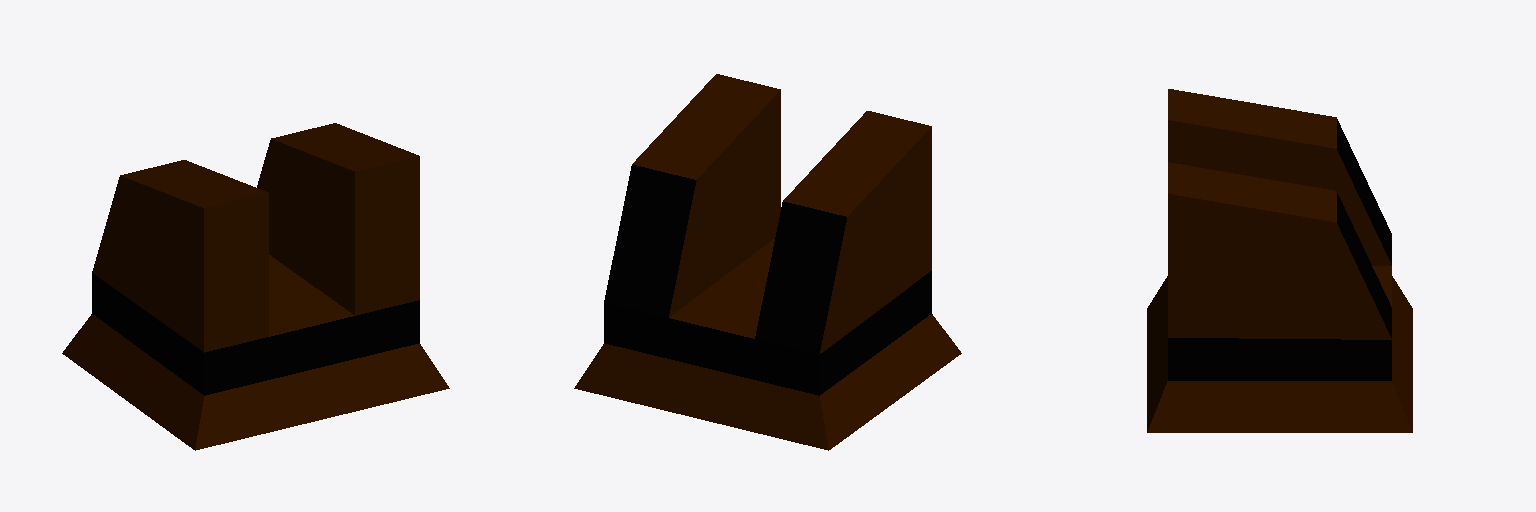
The model's file is turret_body.obj.
The picture shows the model from 3 angles: view 1: azimuth 30°, elevation 25°; view 2: azimuth 150°, elevation 25°; view 3: azimuth 270°, elevation 25°; orthographic projection.
Visible parts, largest first — view 1: Cube_Cube.001; view 2: Cube_Cube.001; view 3: Cube_Cube.001.
Part boxes in pixels (x1,y1,x2,y2): Cube_Cube.001: (62, 123, 449, 450); Cube_Cube.001: (574, 74, 961, 450); Cube_Cube.001: (1147, 89, 1412, 432).
Bounding box in the file's own units: 0.3814 × 0.3283 × 0.3444.